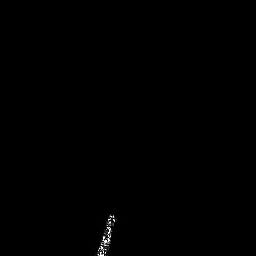ship: (94, 210, 117, 256)
